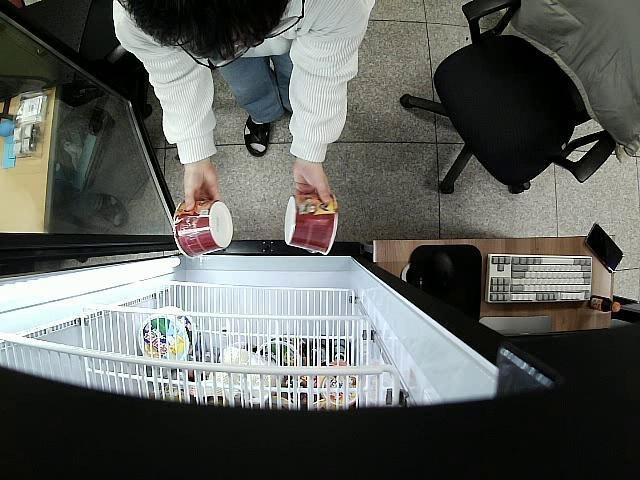05_nuguri_L: (282, 193, 338, 256), (172, 202, 232, 258)
